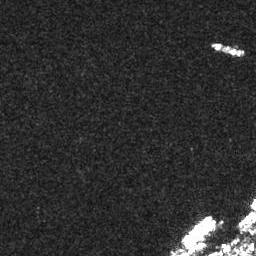ship: (181, 214, 215, 245), (210, 41, 246, 58)
